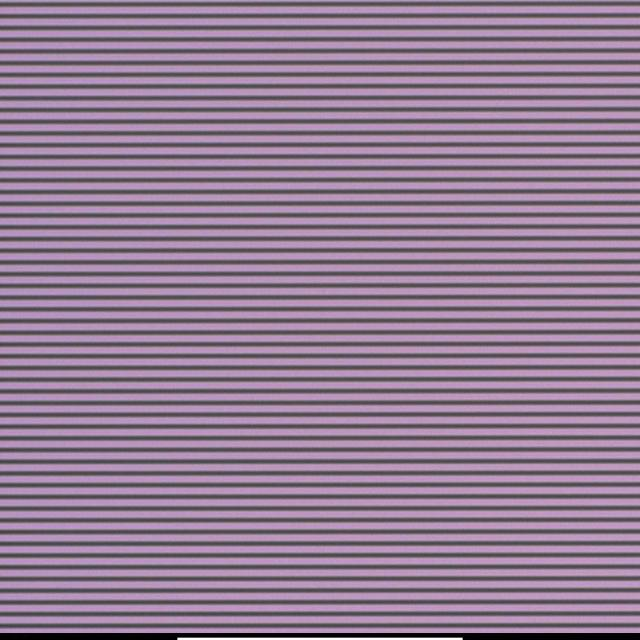nonvisual: (324, 327, 342, 338)
